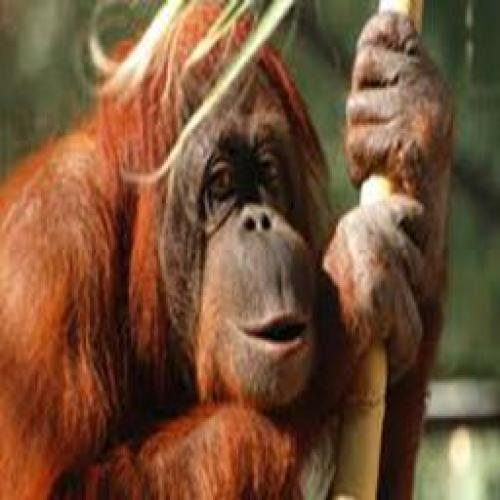orangutan-endangered: (9, 10, 452, 496)
